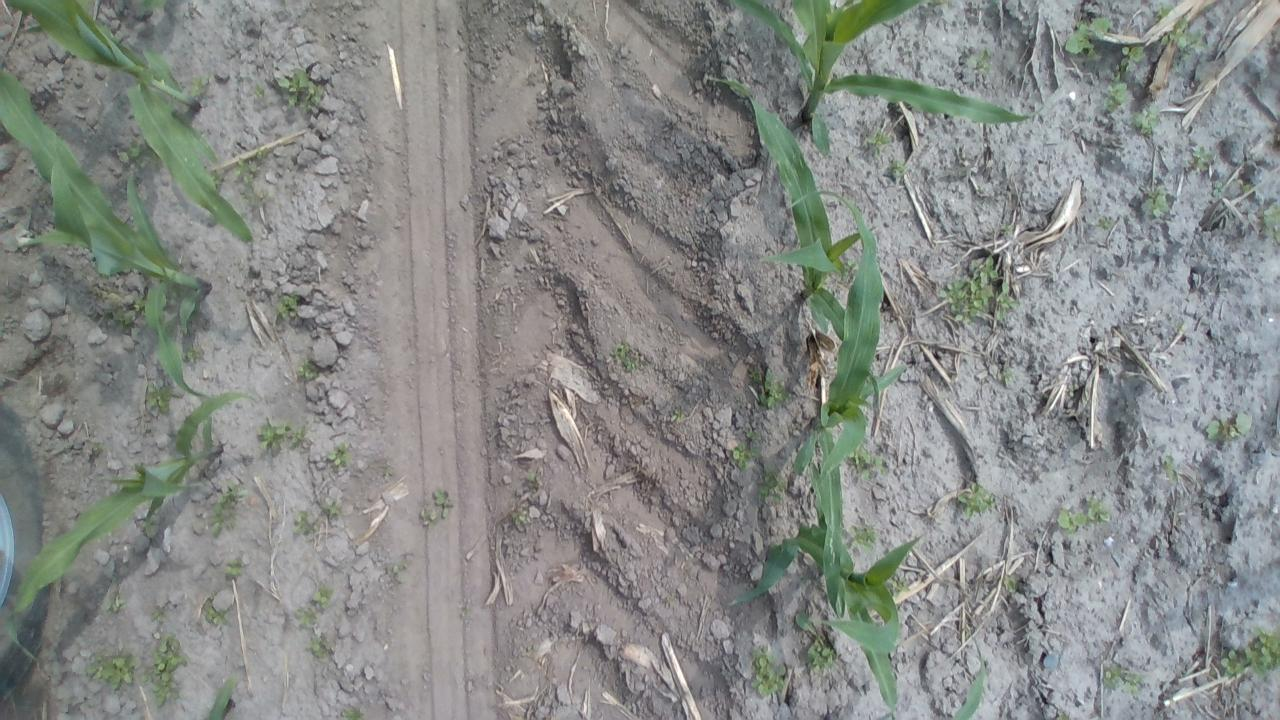Maize: (0, 65, 222, 407), (5, 385, 257, 686), (700, 74, 886, 439), (1, 0, 257, 246), (726, 0, 1042, 171), (769, 185, 892, 616), (721, 462, 923, 720), (939, 630, 992, 720), (198, 666, 243, 720), (132, 0, 175, 13)
Weeds: (942, 255, 1018, 326), (1215, 626, 1280, 680), (142, 634, 188, 706), (790, 614, 842, 677), (82, 646, 135, 696), (206, 478, 249, 539), (744, 647, 792, 700), (1054, 492, 1112, 534), (254, 414, 312, 455), (1062, 16, 1114, 60), (1156, 7, 1205, 52), (750, 366, 799, 410), (276, 69, 334, 106), (1204, 409, 1258, 448), (1098, 660, 1154, 696), (416, 484, 456, 530), (233, 156, 270, 204), (953, 481, 999, 518), (1139, 180, 1176, 222), (114, 137, 162, 166), (108, 290, 149, 322), (847, 448, 888, 480), (756, 466, 788, 506), (1128, 102, 1164, 137), (960, 45, 994, 79), (612, 338, 644, 374), (1116, 42, 1147, 78), (846, 522, 880, 554), (200, 594, 230, 630), (325, 438, 358, 470), (726, 442, 763, 470), (861, 126, 893, 158), (1260, 198, 1280, 248), (1162, 452, 1188, 490), (1102, 78, 1131, 110), (307, 632, 335, 664), (144, 382, 172, 414), (276, 290, 304, 320), (222, 552, 248, 584), (290, 507, 314, 540), (1189, 144, 1217, 170), (103, 588, 127, 618), (189, 75, 215, 102), (336, 700, 370, 720), (998, 364, 1022, 391), (294, 358, 322, 381), (179, 346, 207, 368), (296, 606, 320, 631), (320, 495, 346, 518), (510, 505, 534, 529), (312, 584, 334, 609), (885, 153, 905, 180), (841, 253, 860, 279), (1096, 214, 1120, 234), (252, 146, 274, 166), (248, 80, 270, 100), (889, 578, 911, 598), (1001, 572, 1019, 596), (998, 219, 1018, 240), (150, 604, 168, 627), (744, 428, 768, 445), (526, 464, 544, 486), (1206, 178, 1224, 200), (1236, 176, 1258, 194), (669, 409, 690, 427), (91, 438, 112, 454)
